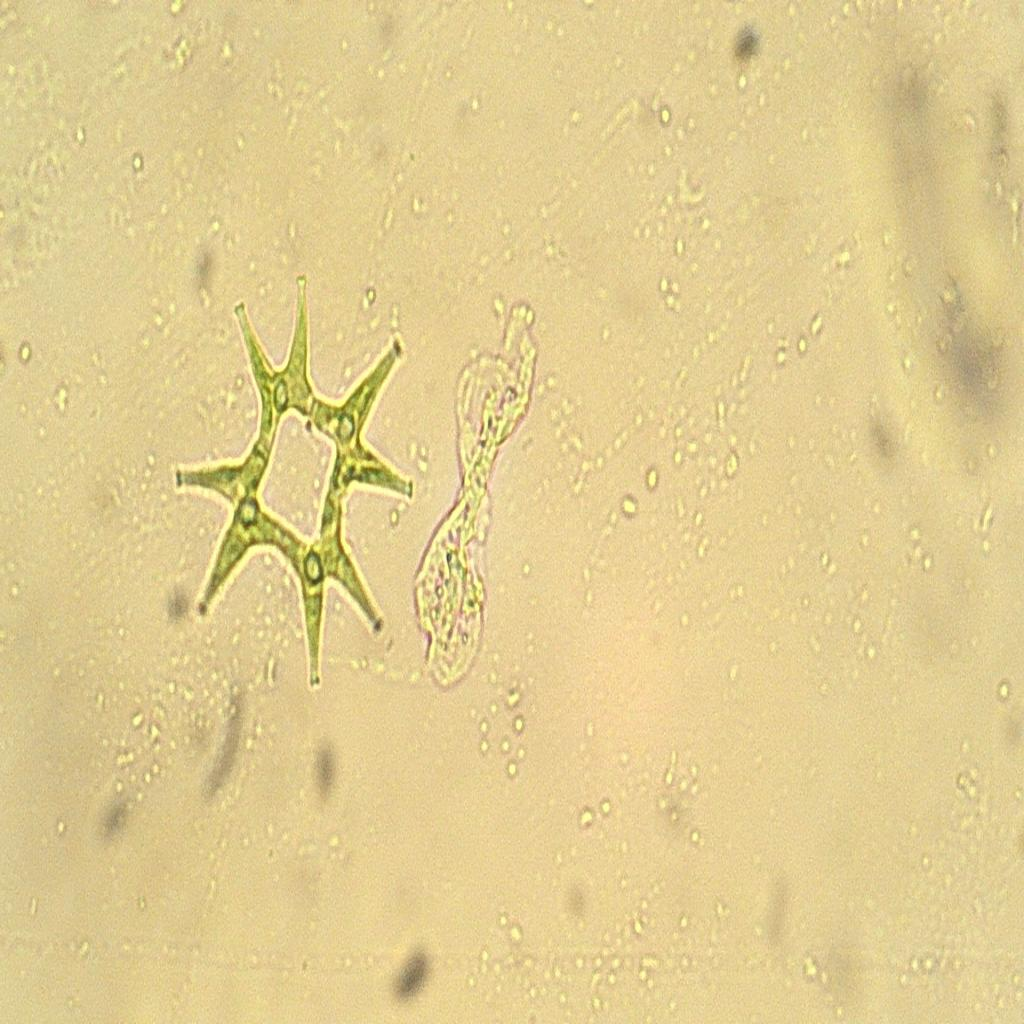Pediastrum_CO: (166, 260, 435, 697)
